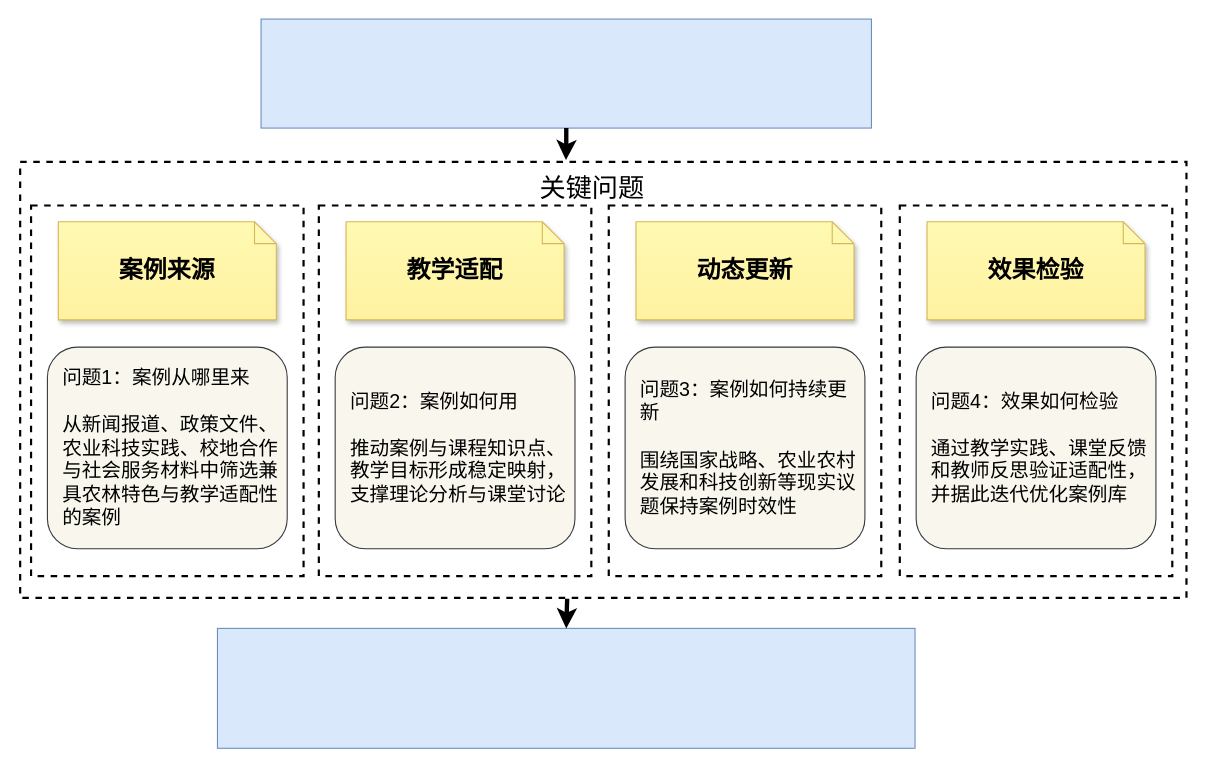
Some shapes in this 1206 by 767 pixel diagram are drawn without their labels. Each missing label, with the centre of its shape:
2.1 研究目标 构建“案例挖掘 → 案例筛选 → 案例分类 → 教学融入 → 实践反馈”路径: point 565,73
预期形成 农林研究生思政案例资源库 + 教学实践方案 让案例资源从静态积累转化为教学过程中的有效支撑: point 565,687
